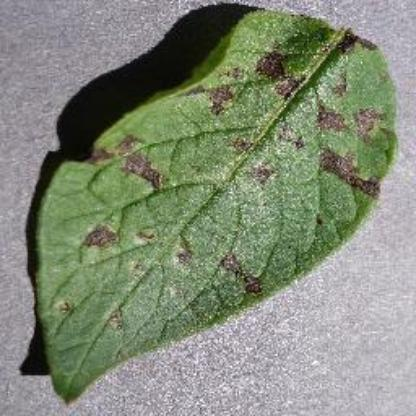Early-Blight: (29, 11, 397, 404)
